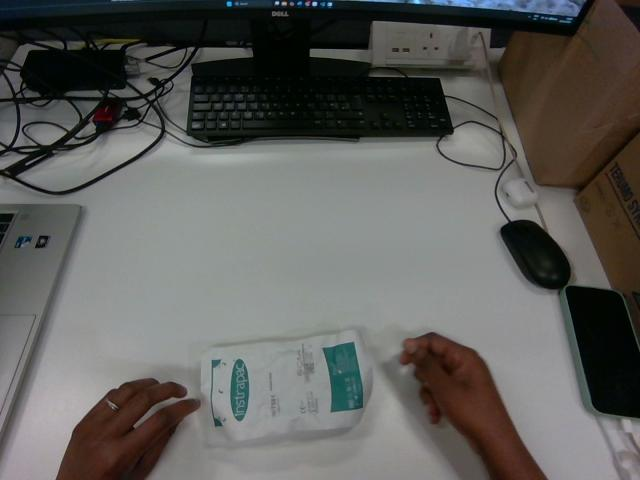gallipot: (201, 330, 372, 440)
